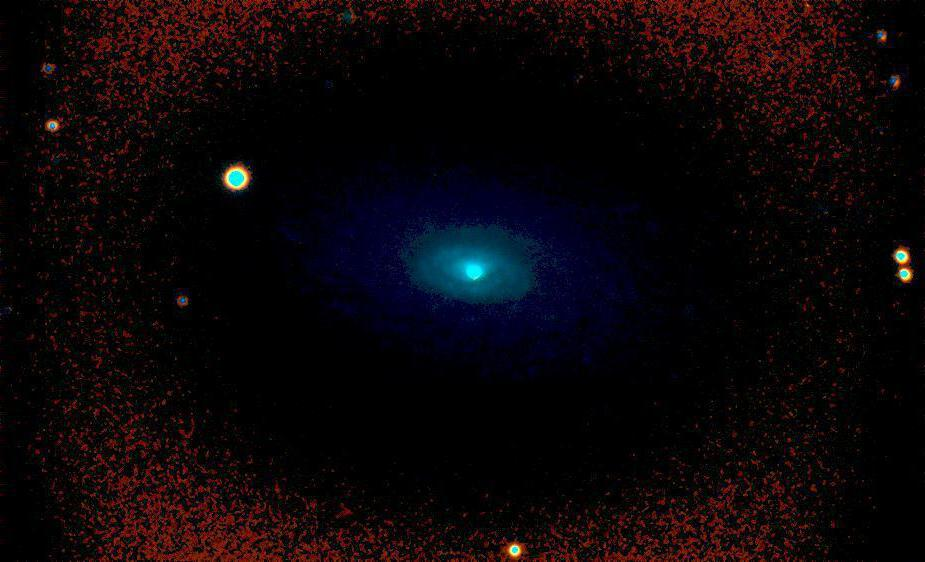star: (430, 284, 460, 314)
